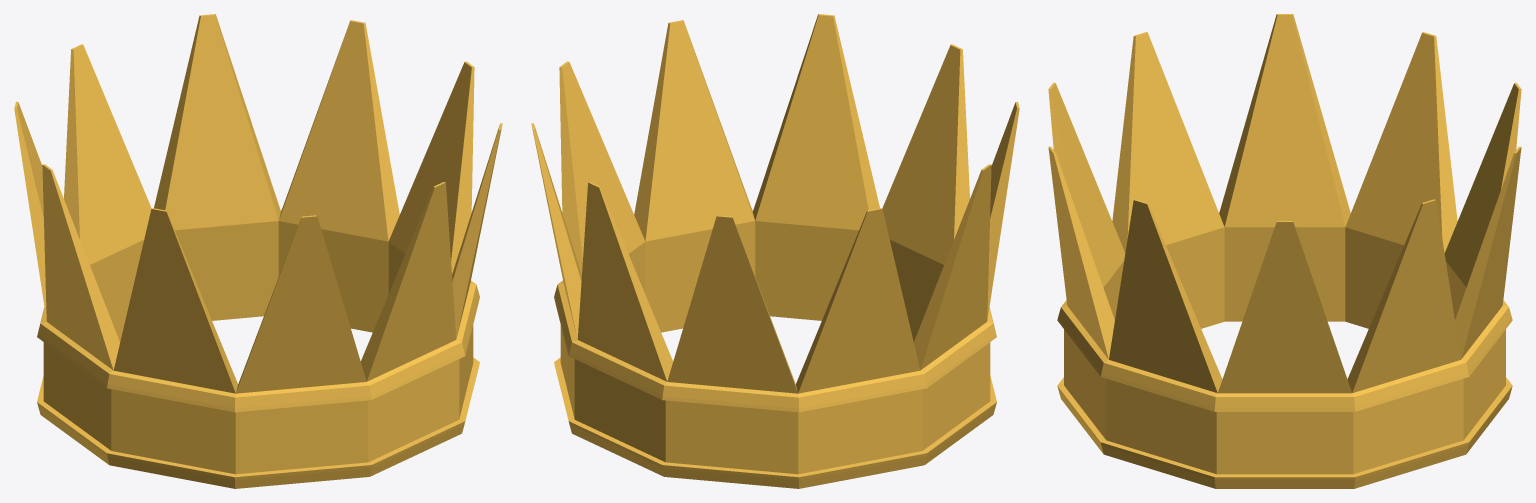
Rendered from Crown.fbx.
3 views of the same model, side by side, from view 1: azimuth 30°, elevation 25°; view 2: azimuth 150°, elevation 25°; view 3: azimuth 270°, elevation 25° (orthographic).
Parts seen in each view (by area): view 1: Crown; view 2: Crown; view 3: Crown.
Boxes of the visible parts, x1=… form: Crown: x1=14, y1=14, x2=502, y2=488; Crown: x1=531, y1=14, x2=1019, y2=488; Crown: x1=1048, y1=14, x2=1521, y2=488.
Bounding box in the file's own units: 226 × 143 × 217.
